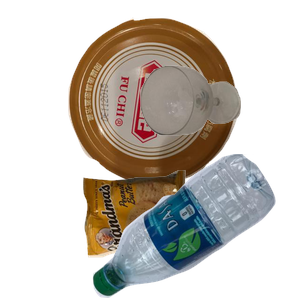glass: (138, 63, 300, 191)
metal: (66, 15, 297, 193)
plastic: (90, 154, 300, 300)
trash: (81, 168, 261, 300)
